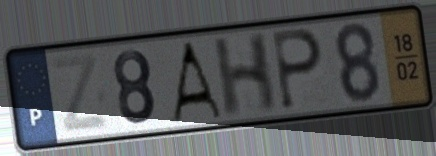8: (331, 20, 383, 106), (111, 47, 159, 128)
A: (167, 38, 226, 124)
H: (210, 29, 279, 121)
P: (270, 26, 326, 113)
Z: (47, 50, 113, 136)
